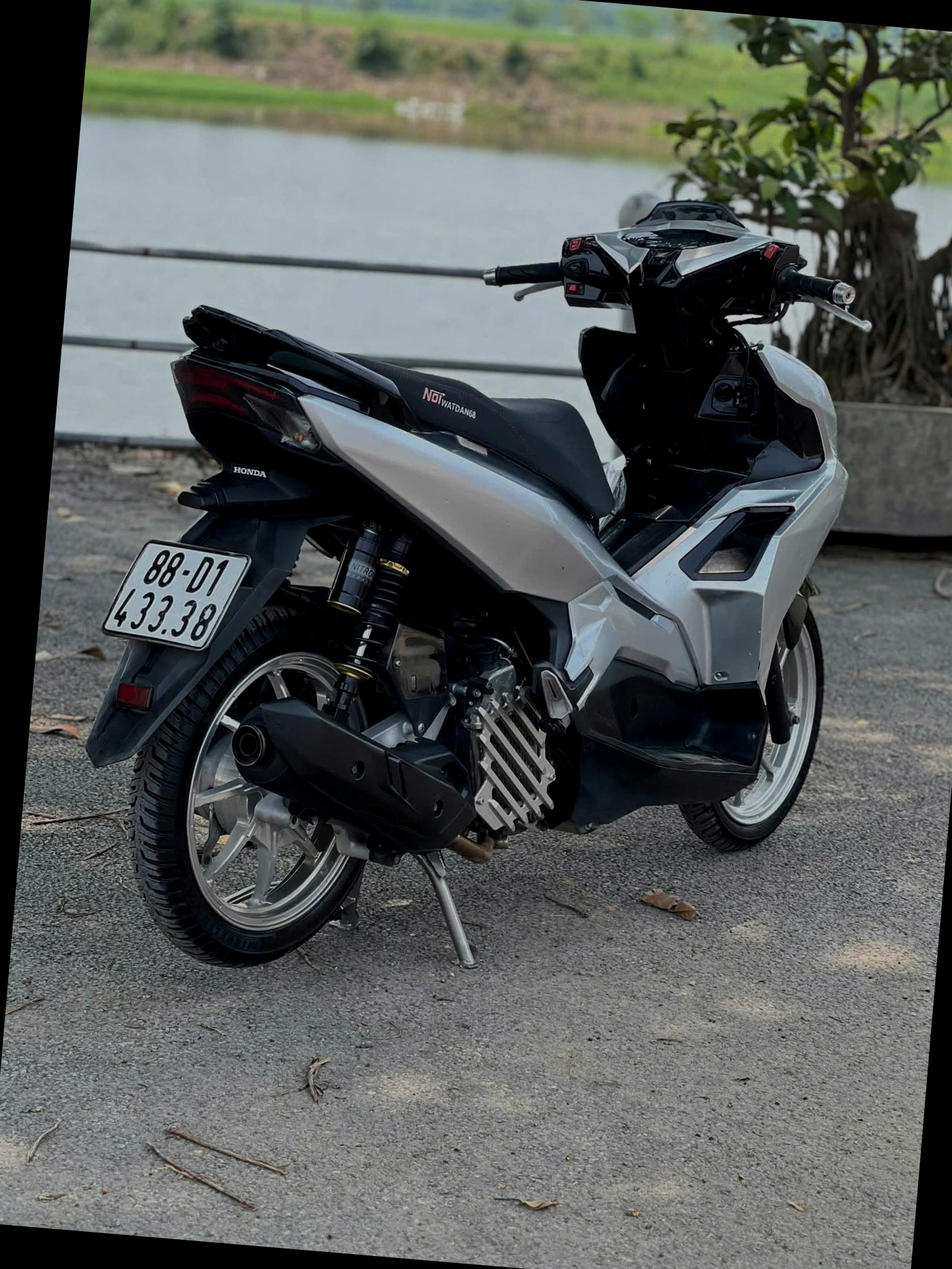Bien-so: (72, 556, 223, 661)
